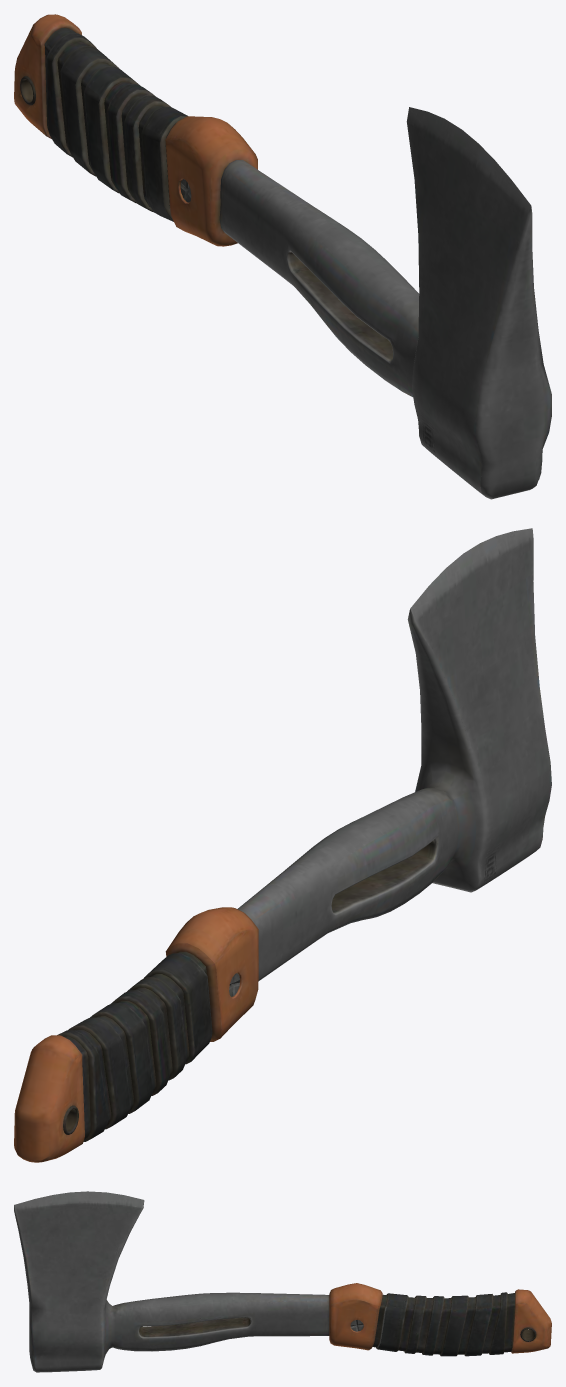
Rendered from machado.glb.
3 renders of one model, top to bottom at view 1: azimuth 30°, elevation 25°; view 2: azimuth 150°, elevation 25°; view 3: azimuth 270°, elevation 25°, orthographic. The views are drawn at different scales.
Visible parts, largest first — view 1: Malha; view 2: Malha; view 3: Malha.
Boxes of the visible parts, bbox=[...] form: Malha: bbox=[14, 14, 551, 499]; Malha: bbox=[14, 528, 551, 1162]; Malha: bbox=[14, 1191, 551, 1372].
Size of the model in its own units: 0.045 by 0.1806 by 0.5.
1 material, 1 textured.
